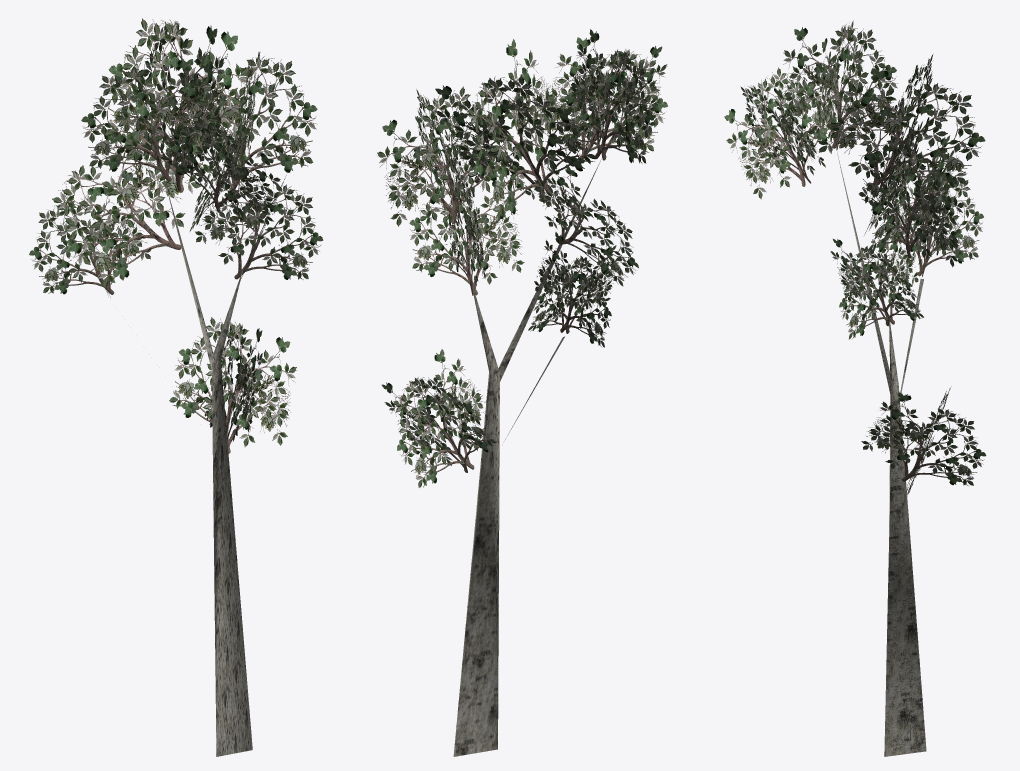
The model's file is decd_whitebirchtreeleaves_l3.fbx.
3 renders of one model, left to right at view 1: azimuth 30°, elevation 25°; view 2: azimuth 150°, elevation 25°; view 3: azimuth 270°, elevation 25°, orthographic. The views are drawn at different scales.
Parts seen in each view (by area): view 1: mesh_node; view 2: mesh_node; view 3: mesh_node.
Part boxes in pixels (x1,y1,x2,y2): mesh_node: [29, 18, 323, 756]; mesh_node: [377, 29, 667, 756]; mesh_node: [724, 20, 986, 756].
Size of the model in its own units: 6.79 by 17.08 by 6.65.
